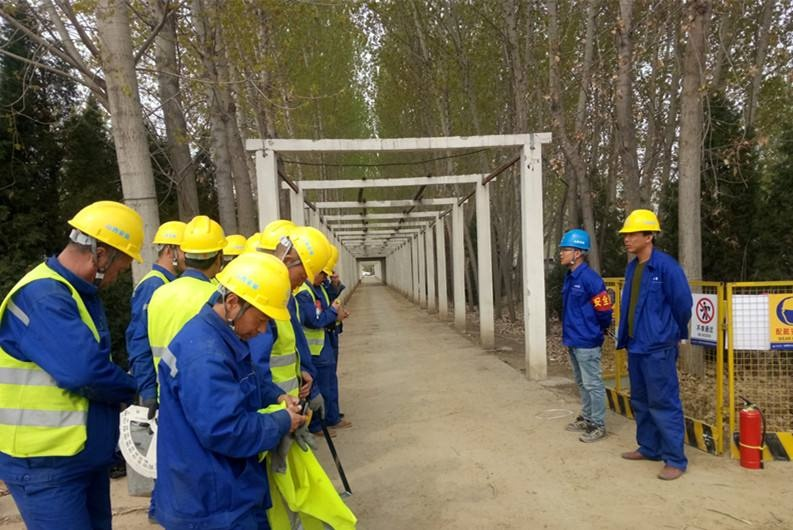blue: (558, 227, 592, 269)
yellow: (65, 198, 144, 291), (217, 251, 294, 344), (276, 227, 332, 292), (183, 216, 225, 275), (618, 207, 659, 254), (154, 219, 188, 270)
